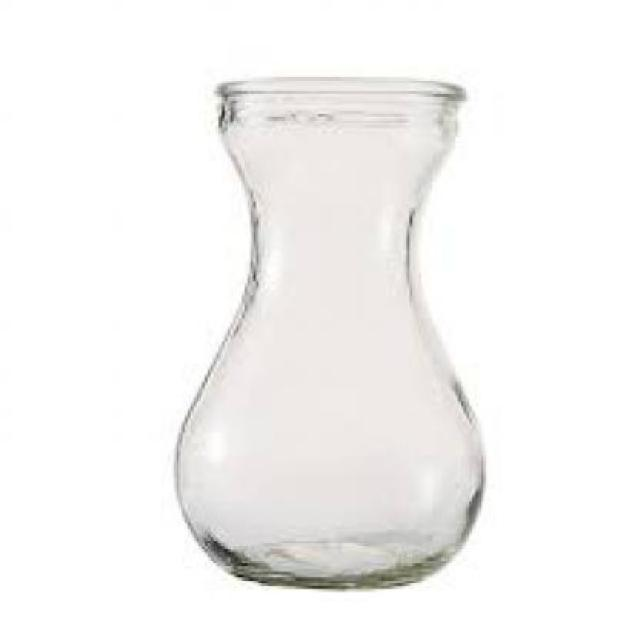kaca: (174, 77, 480, 589)
